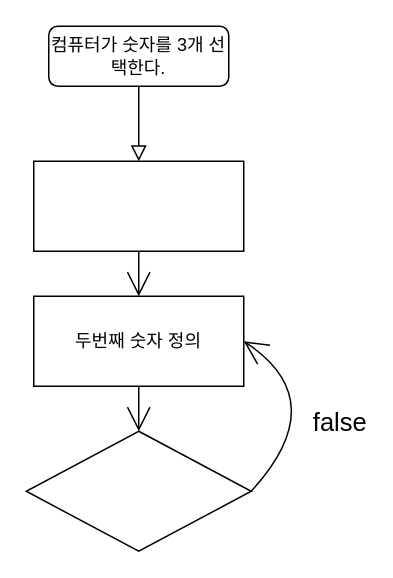
Some shapes in this 393 by 578 pixel diagram are drawn without their labels. The box of each missing label's shape, as (x1, y1, x2, y2) in pixels:
첫번째 숫자 정의: (32, 160, 244, 251)
첫번째 숫자와 두번째 숫자가 다른가?: (25, 430, 251, 551)
